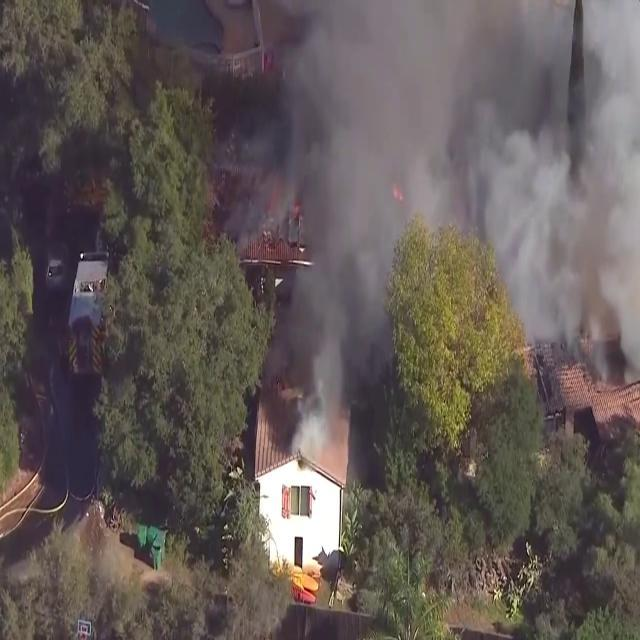Smoke: (248, 0, 640, 359)
